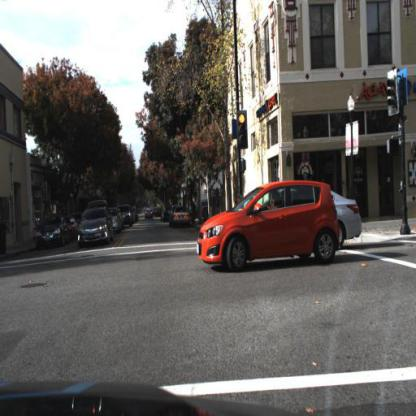car: (198, 181, 342, 271), (329, 178, 365, 252), (76, 207, 114, 251), (33, 215, 68, 252), (109, 205, 123, 241), (172, 203, 190, 228), (112, 208, 125, 235), (122, 203, 134, 230), (145, 206, 155, 224)
pedestrian: (406, 168, 416, 225)
trafficLight: (238, 112, 248, 152)
